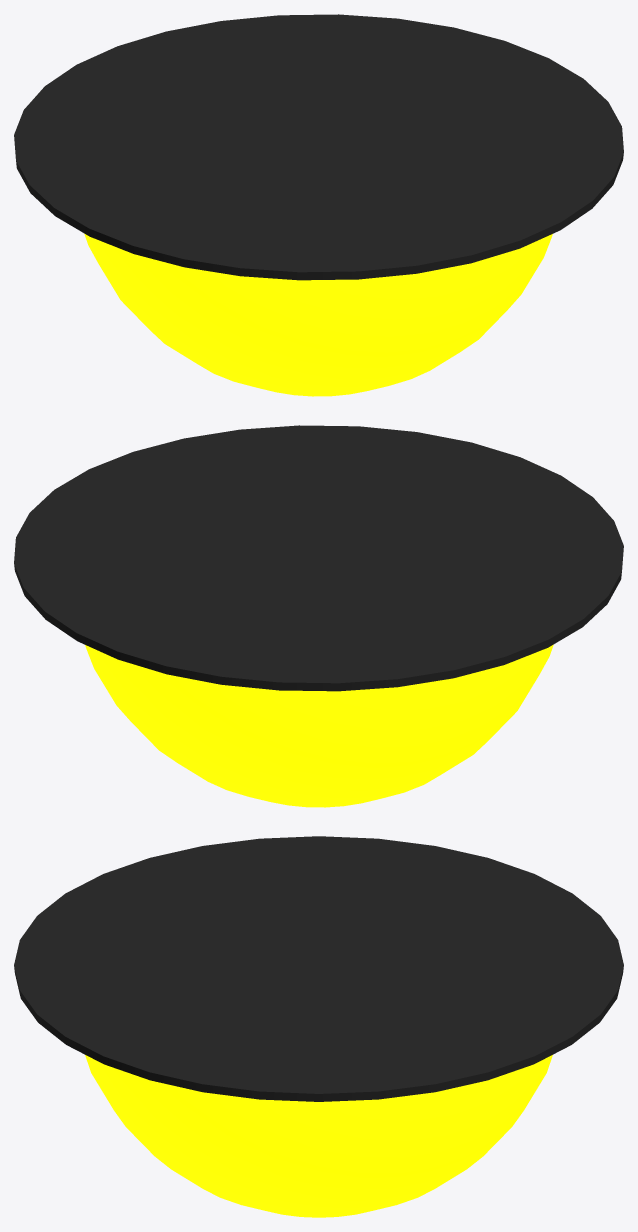
Rendered from Light.FBX.
3 renders of one model, top to bottom at view 1: azimuth 30°, elevation 25°; view 2: azimuth 150°, elevation 25°; view 3: azimuth 270°, elevation 25°, orthographic.
Visible parts, largest first — view 1: Light_Holder, Light; view 2: Light_Holder, Light; view 3: Light_Holder, Light.
Boxes of the visible parts, x1,y1,x2,y2 form: Light_Holder: [14, 14, 623, 280]; Light: [84, 233, 552, 396]; Light_Holder: [14, 425, 623, 691]; Light: [85, 644, 553, 807]; Light_Holder: [14, 836, 623, 1101]; Light: [85, 1055, 552, 1217].
Bounding box in the file's own units: 31.41 × 13.03 × 31.41.
